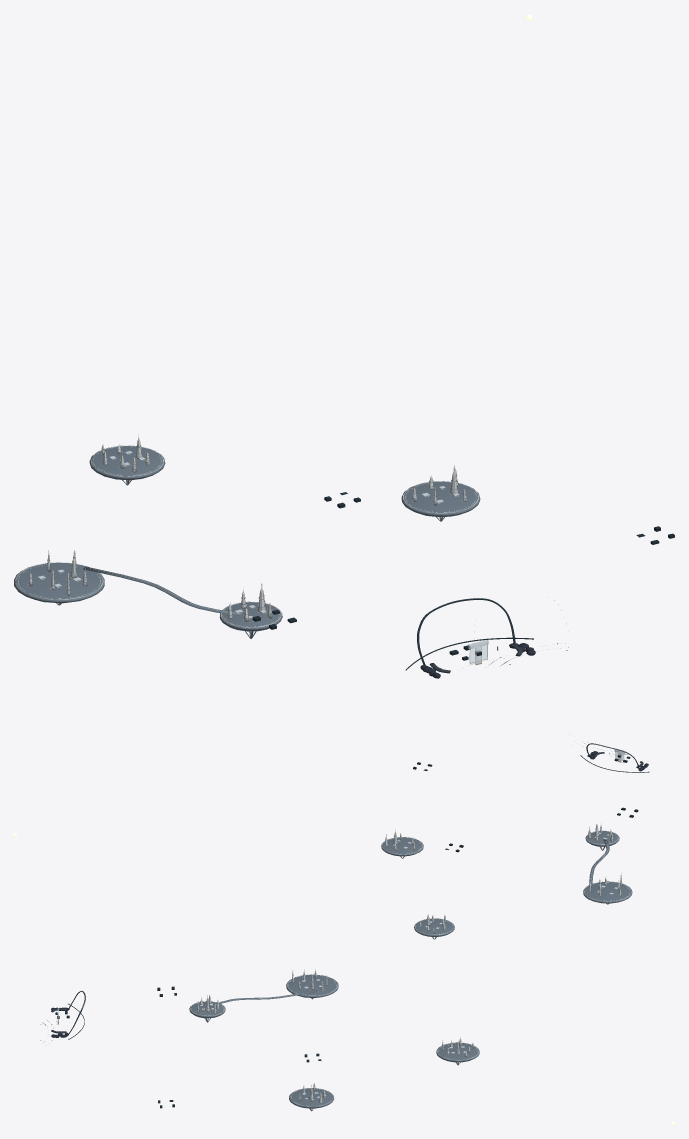
File: tem-observatory-v20-lod.glb
3 views of the same model, one above another, from view 1: azimuth 30°, elevation 25°; view 2: azimuth 150°, elevation 25°; view 3: azimuth 270°, elevation 25° (orthographic). The views are drawn at different scales.
Visible parts, largest first — view 1: EXTERIOR_V19_V19_TITANIUM.001, EXTERIOR_V19_V19_PEARL.001; view 2: EXTERIOR_V19_V19_TITANIUM.001, EXTERIOR_V19_V19_PEARL.001; view 3: EXTERIOR_V19_V19_TITANIUM.001, EXTERIOR_V19_V19_PEARL.001.
Part boxes in pixels (box(x1,y1,x2,y2)): EXTERIOR_V19_V19_TITANIUM.001: box(14, 445, 480, 638); EXTERIOR_V19_V19_PEARL.001: box(15, 433, 478, 627); EXTERIOR_V19_V19_TITANIUM.001: box(381, 828, 632, 939); EXTERIOR_V19_V19_PEARL.001: box(382, 823, 631, 934); EXTERIOR_V19_V19_TITANIUM.001: box(189, 973, 479, 1111); EXTERIOR_V19_V19_PEARL.001: box(190, 969, 478, 1106).
Bounding box in the file's own units: 607 × 134 × 731.
